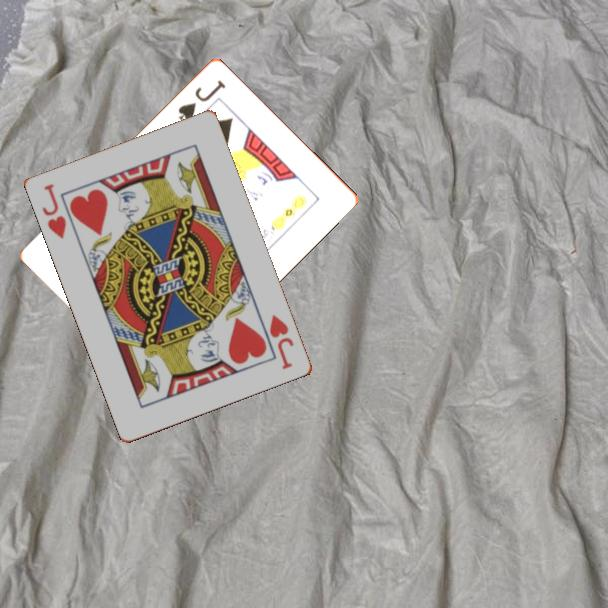h11: (266, 311, 297, 373), (39, 180, 70, 242)
s11: (175, 76, 229, 123)
